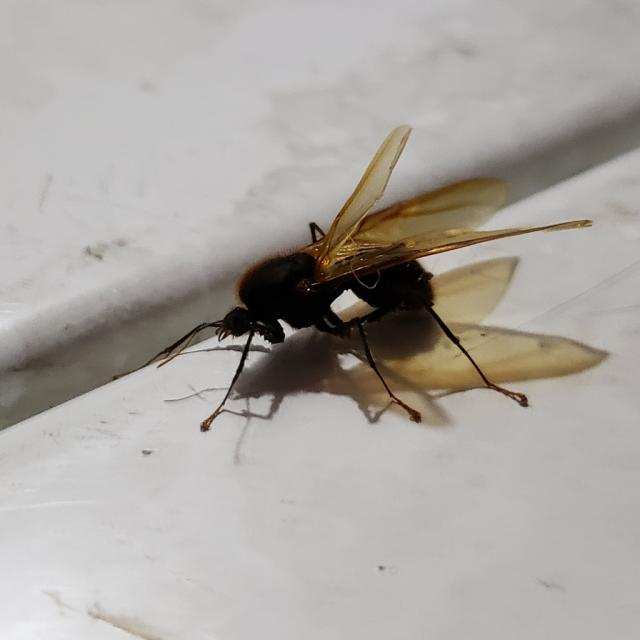Alive-Male-Alate: (112, 124, 592, 432)
